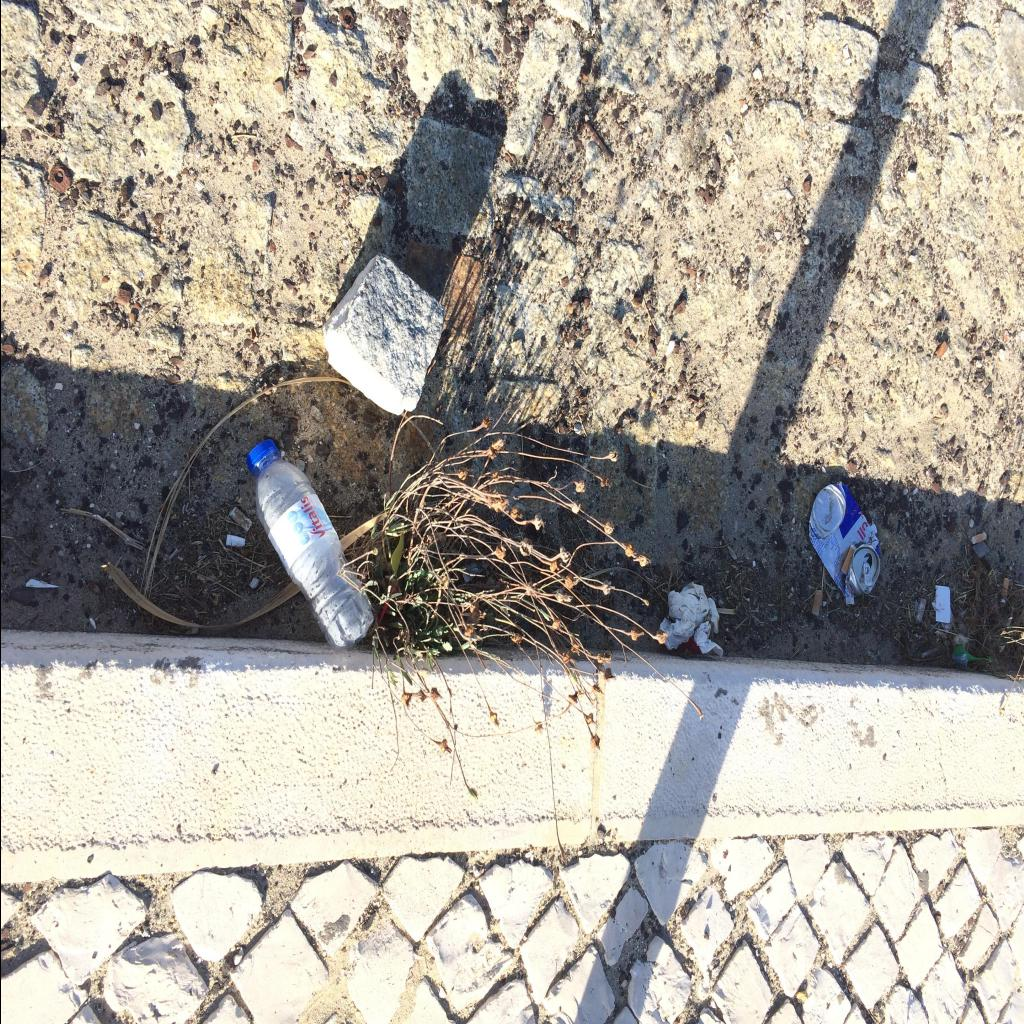Cigarette: (228, 508, 253, 532), (840, 543, 854, 576), (913, 594, 927, 622), (810, 590, 822, 616), (1000, 578, 1010, 602), (226, 535, 244, 547), (970, 532, 986, 544)
Clear plastic bottle: (244, 440, 372, 650)
Drink can: (807, 482, 879, 596)
Plastic bottle cap: (244, 440, 276, 470)
Pop tab: (862, 562, 871, 586)
Tissues: (658, 582, 722, 658)
Unlabeled litter: (934, 586, 948, 622)
